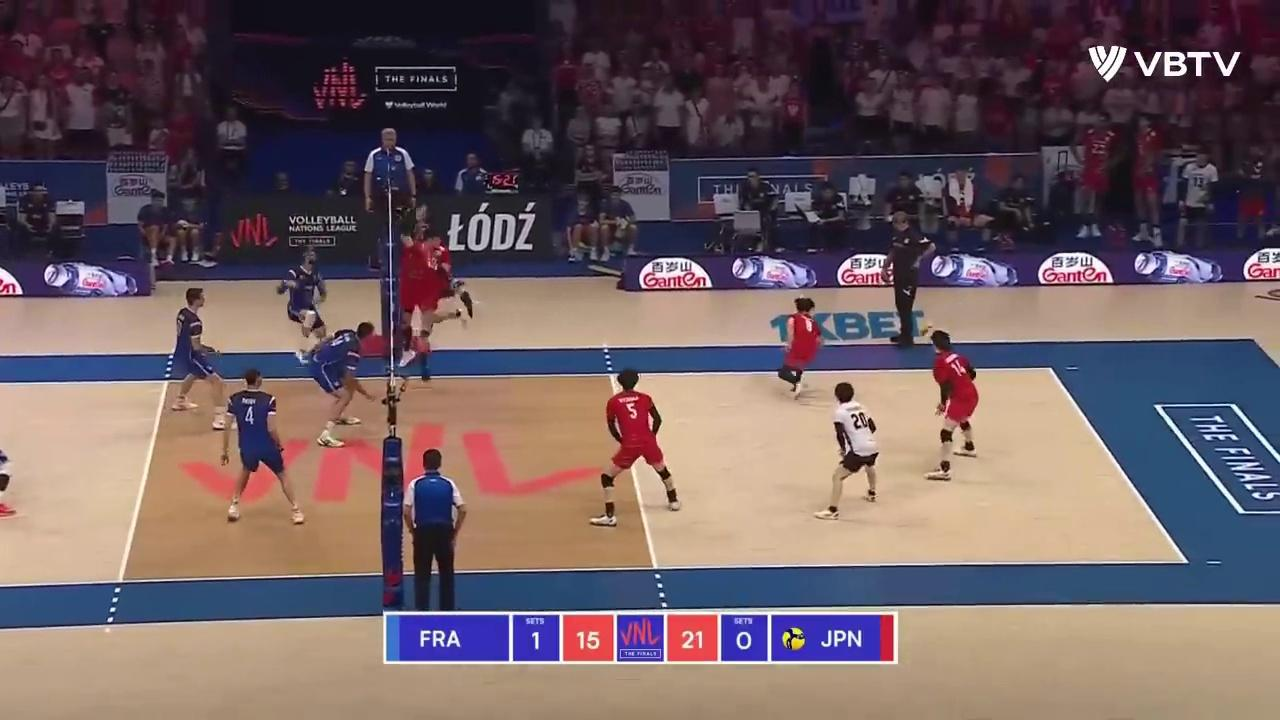ball: (918, 322, 935, 338)
